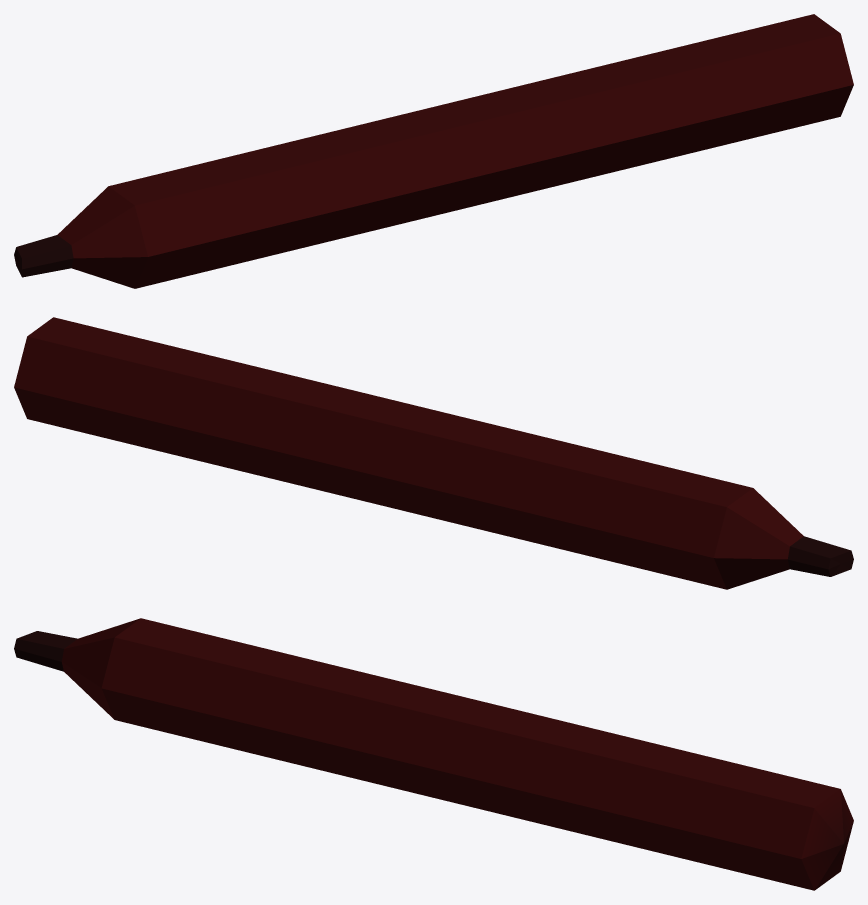
Rendered from Marker.glb.
3 renders of one model, top to bottom at view 1: azimuth 30°, elevation 25°; view 2: azimuth 150°, elevation 25°; view 3: azimuth 330°, elevation 25°, orthographic.
Parts seen in each view (by area): view 1: Marker; view 2: Marker; view 3: Marker.
Part boxes in pixels (bbox=[...]): Marker: bbox=[14, 14, 853, 288]; Marker: bbox=[14, 317, 853, 589]; Marker: bbox=[14, 618, 853, 890].
Size of the model in its own units: 1.02 by 0.0982 by 0.1134.
